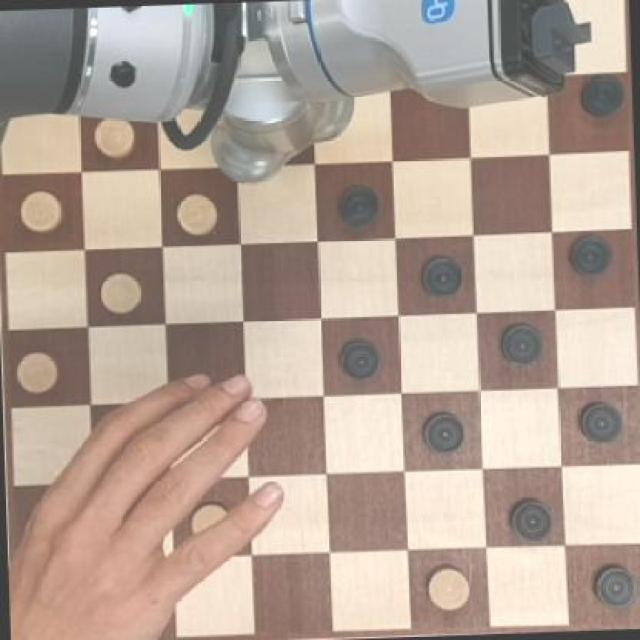black: (334, 333, 396, 393), (414, 407, 470, 457), (492, 320, 548, 370), (586, 556, 634, 614), (501, 490, 553, 543), (574, 398, 626, 451), (330, 178, 384, 228), (416, 251, 464, 306), (576, 76, 624, 123), (563, 234, 618, 275)
white: (418, 556, 482, 620), (170, 189, 226, 241), (12, 345, 64, 401), (92, 269, 150, 319), (15, 187, 65, 239), (87, 119, 136, 158)
